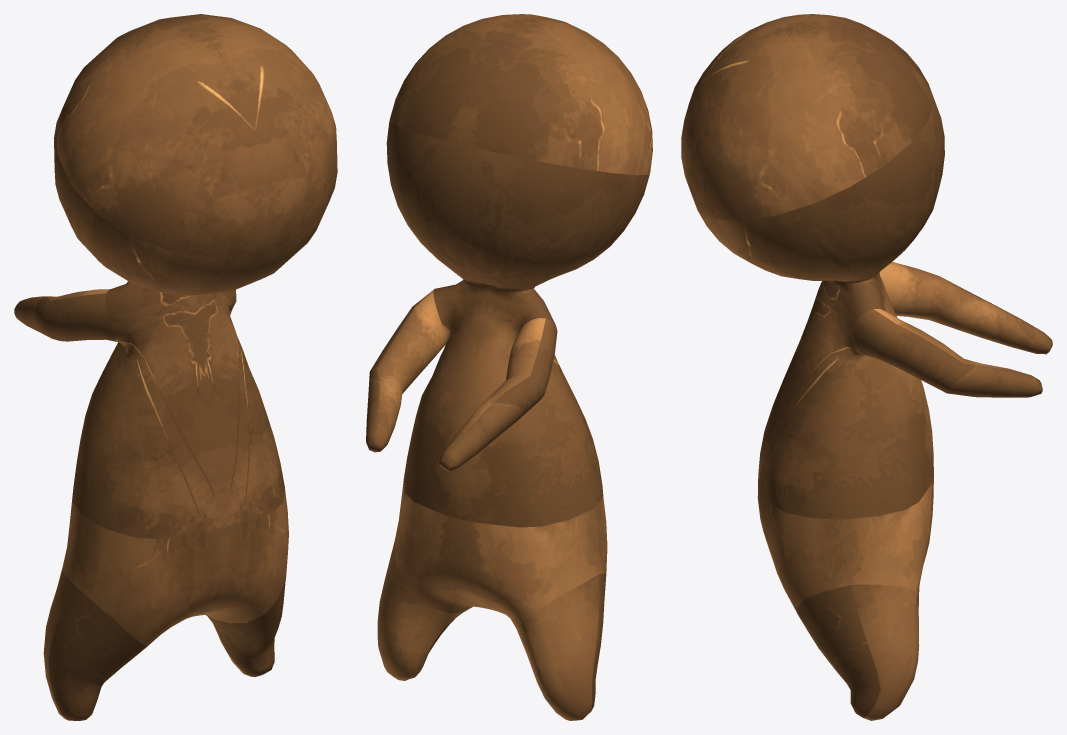
The model's file is hariAbraco.fbx.
3 views of the same model, side by side, from view 1: azimuth 30°, elevation 25°; view 2: azimuth 150°, elevation 25°; view 3: azimuth 270°, elevation 25° (orthographic). The views are drawn at different scales.
Parts seen in each view (by area): view 1: polySurface25; view 2: polySurface25; view 3: polySurface25.
Boxes of the visible parts, bbox=[...] form: polySurface25: bbox=[14, 14, 337, 720]; polySurface25: bbox=[366, 14, 652, 720]; polySurface25: bbox=[681, 14, 1052, 720].
Bounding box in the file's own units: 23.02 × 61.21 × 31.72.
